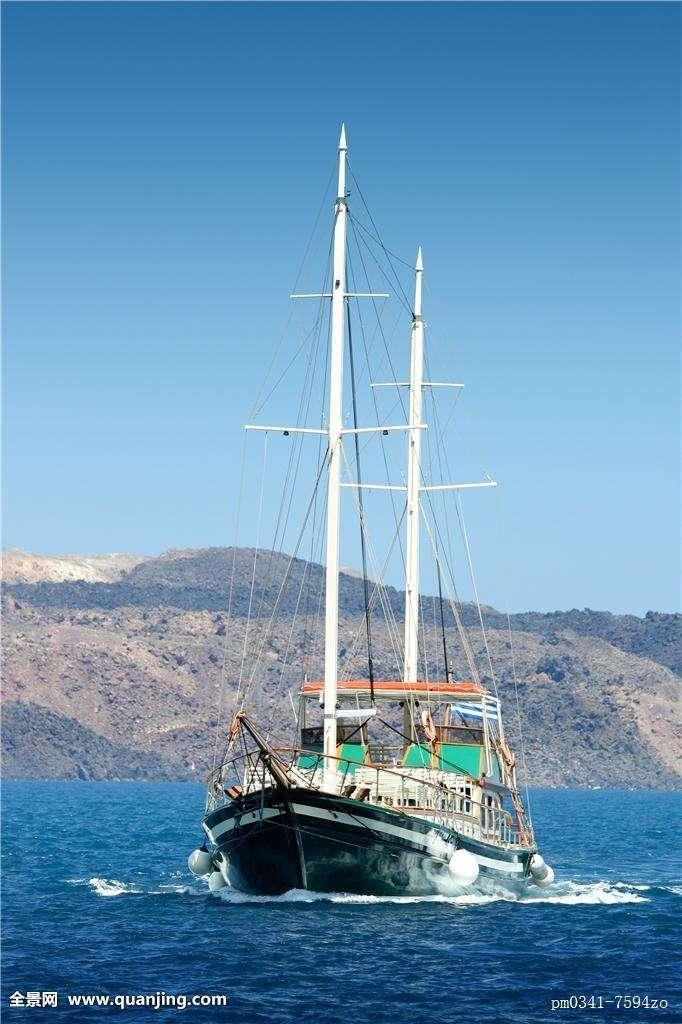fanchuan: (170, 122, 558, 916)
